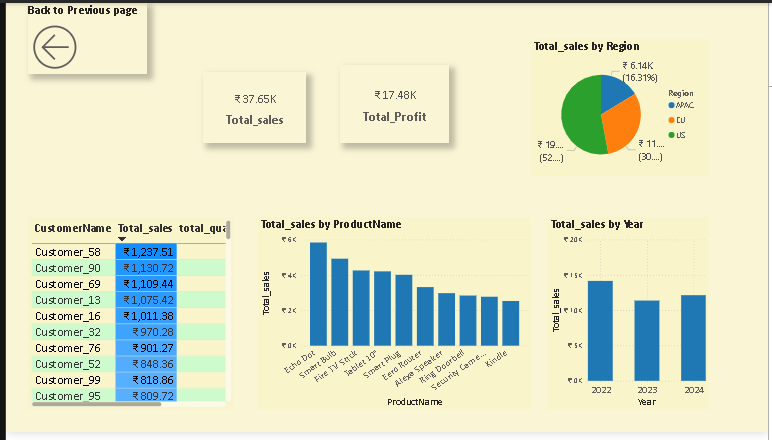

The page's visual inventory and layout, read from the dashboard file:
{"tool":"powerbi","page":{"name":"Interactive_Drill_Through","canvas":[1280,720],"ordinal":5},"visuals":[{"type":"actionButton","title":"Back to Previous page","box":[37,0,199.9,119.3],"z":0},{"type":"tableEx","fields":{"Values":["customers.CustomerName","Metrics.Total_sales","Metrics.total_quantity","Metrics.Total_Profit"]},"box":[37,359.5,346,324.2],"z":1000},{"type":"clusteredColumnChart","fields":{"Y":["Metrics.Total_sales"],"Category":["products.ProductName"]},"box":[423.3,359.5,458.6,324.2],"z":2000},{"type":"card","fields":{"Values":["Metrics.Total_sales"]},"box":[330.9,115.9,173,119.3],"z":3000},{"type":"card","fields":{"Values":["Metrics.Total_Profit"]},"box":[561,104.1,183.1,131],"z":4000},{"type":"pieChart","fields":{"Y":["Metrics.Total_sales"],"Series":["customers.Region"]},"box":[881.9,60.5,299,230.1],"z":5000},{"type":"clusteredColumnChart","fields":{"Category":["calendar.Year"],"Y":["Metrics.Total_sales"]},"box":[910.4,359.5,270.4,324.2],"z":6000}]}

Visuals, with their boxes in screenshot pixels (x1, y1, x2, y2), scaled from the page's 1280x720 canvas onto the 772x440 screenshot:
"Back to Previous page" actionButton: select_region(22, 0, 143, 73)
tableEx - customers.CustomerName x Metrics.Total_sales: select_region(22, 220, 231, 418)
clusteredColumnChart - Metrics.Total_sales x products.ProductName: select_region(255, 220, 532, 418)
card - Metrics.Total_sales: select_region(200, 71, 304, 144)
card - Metrics.Total_Profit: select_region(338, 64, 449, 144)
pieChart - Metrics.Total_sales x customers.Region: select_region(532, 37, 712, 178)
clusteredColumnChart - calendar.Year x Metrics.Total_sales: select_region(549, 220, 712, 418)
